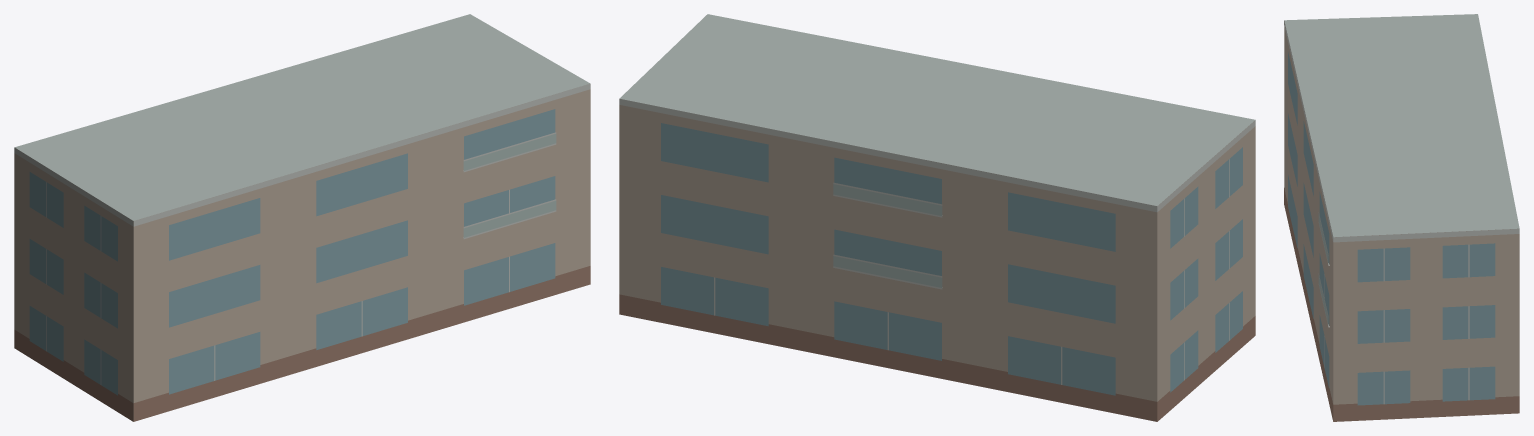
The model's file is survey-upis-33028182.glb.
3 renders of one model, left to right at view 1: azimuth 30°, elevation 25°; view 2: azimuth 150°, elevation 25°; view 3: azimuth 270°, elevation 25°, orthographic. The views are drawn at different scales.
Visible parts, largest first — view 1: survey-upis-33028182.tmp; view 2: survey-upis-33028182.tmp; view 3: survey-upis-33028182.tmp.
Part boxes in pixels (x1,y1,x2,y2): survey-upis-33028182.tmp: (14,14,590,421); survey-upis-33028182.tmp: (619,14,1255,421); survey-upis-33028182.tmp: (1284,14,1519,421).
Bounding box in the file's own units: 22.3 × 8.6 × 9.95.
